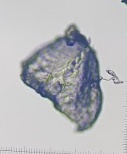microplastic: (18, 23, 105, 134), (120, 1, 127, 5)
